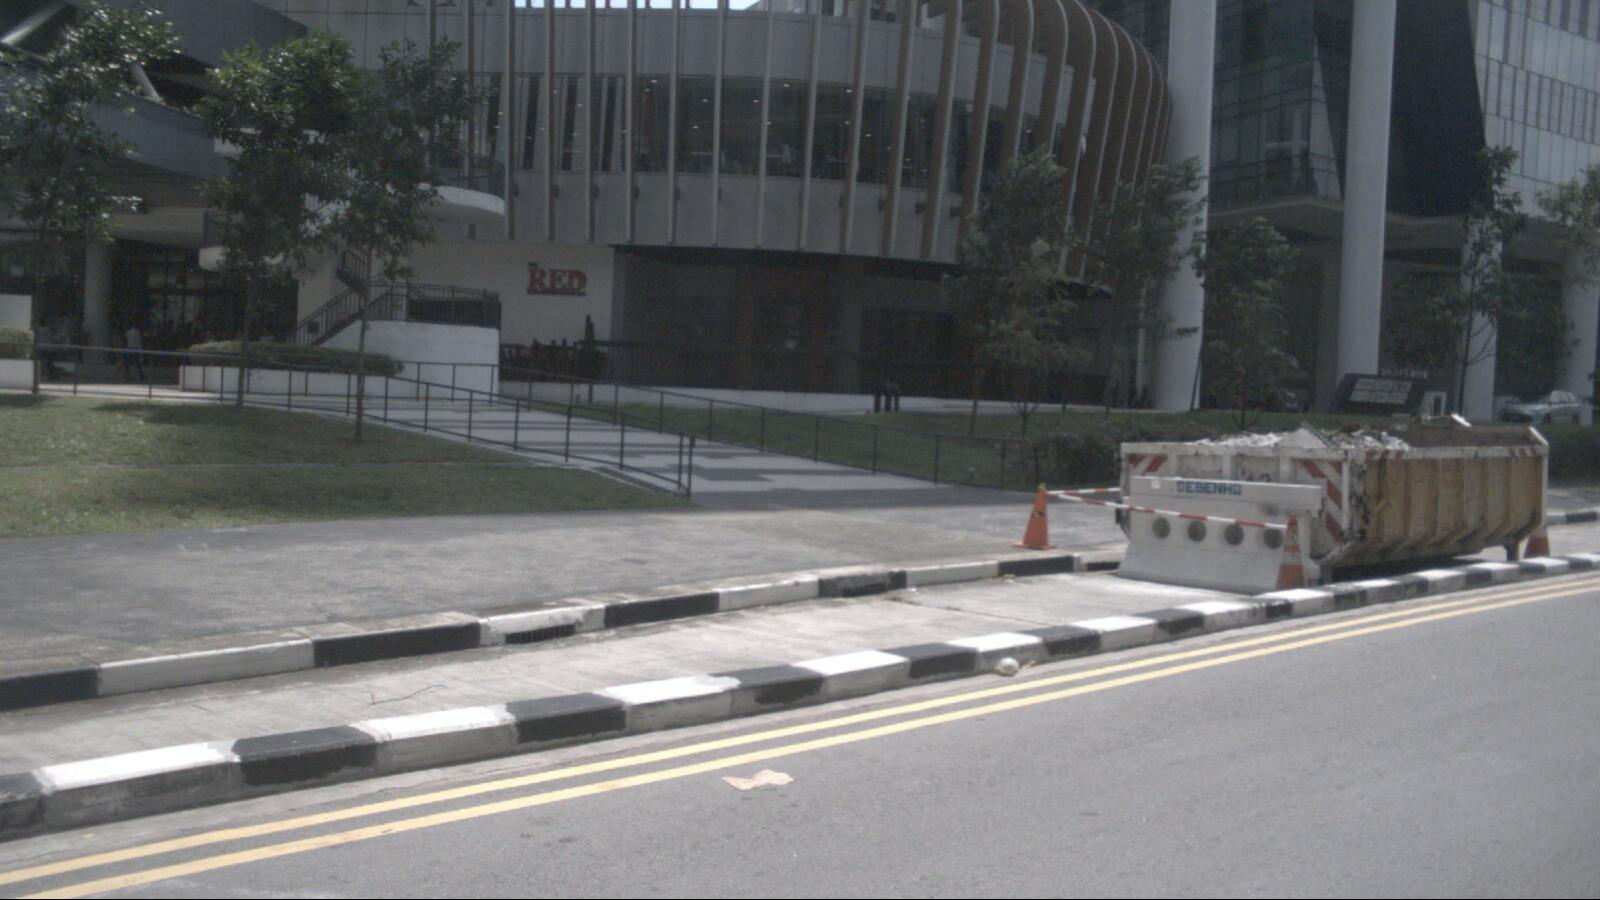human.pedestrian.adult-pedestrian.moving: (125, 322, 147, 383)
human.pedestrian.adult-pedestrian.standing: (37, 314, 56, 379), (230, 325, 251, 382), (257, 326, 276, 380)
